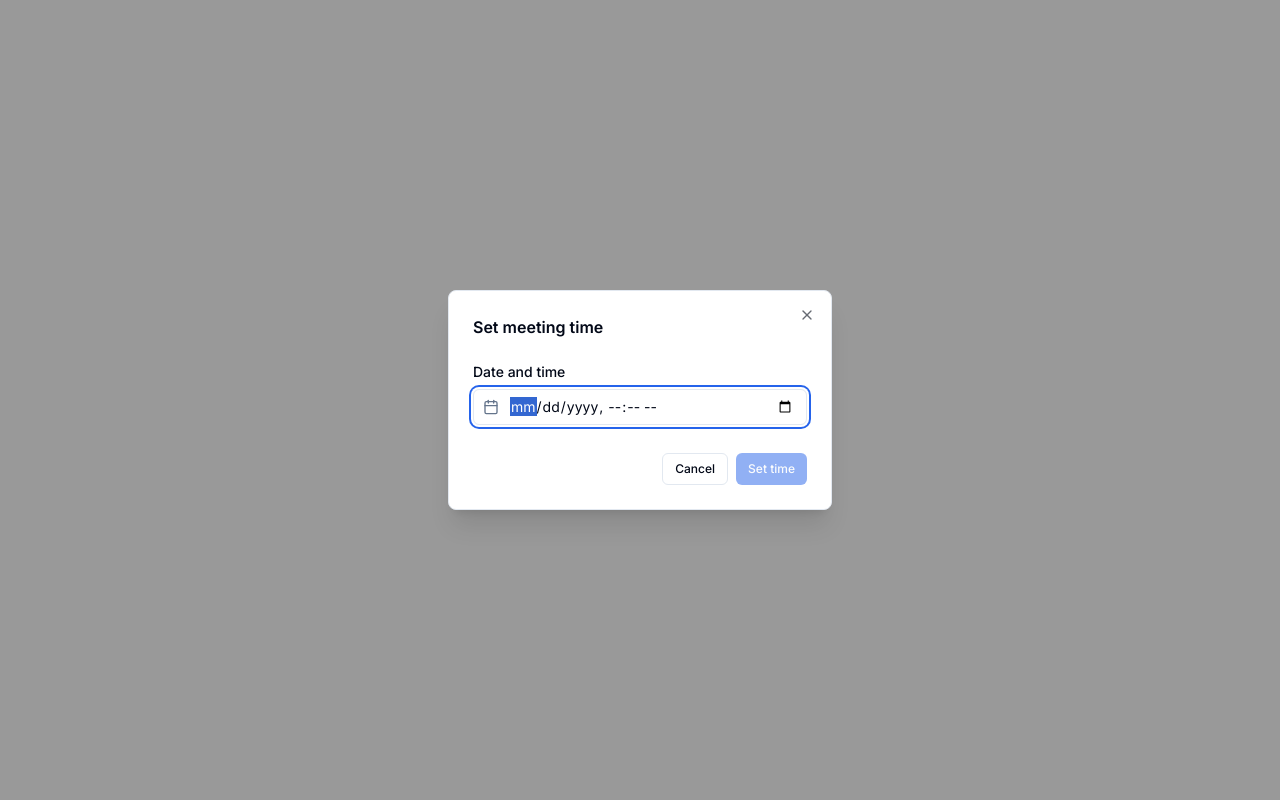
Scenario: MeetingSchedulerDialog › shows error message when mutateAsync throws
The width and height of the screenshot is (1280, 800).
Type "2026-07-01T10:00" into the field labelled "Date and time" at (640, 407), box [473,389,807,425]
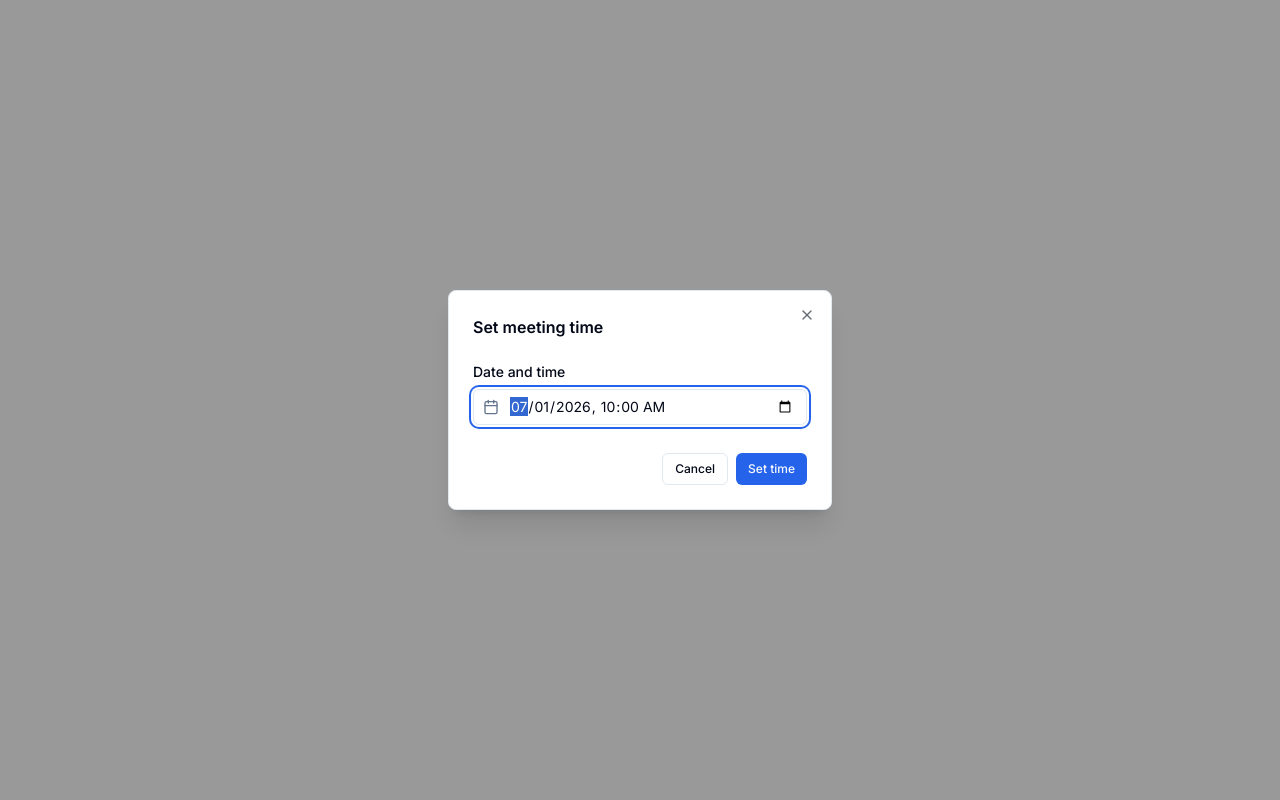
Click the button "Set time" at (772, 469), box [736,453,807,485]
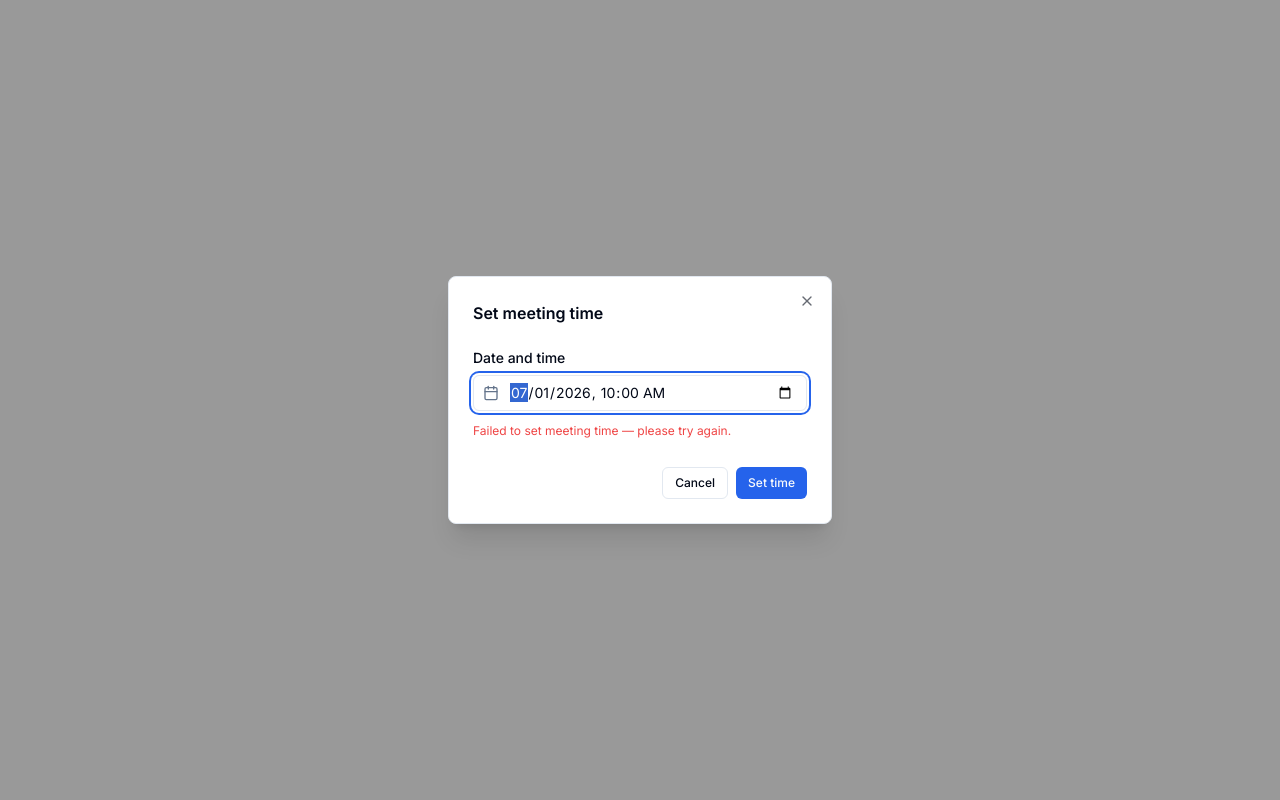
Expected: the text "Failed to set meeting time — please try again." is shown, [473,423,731,438]
